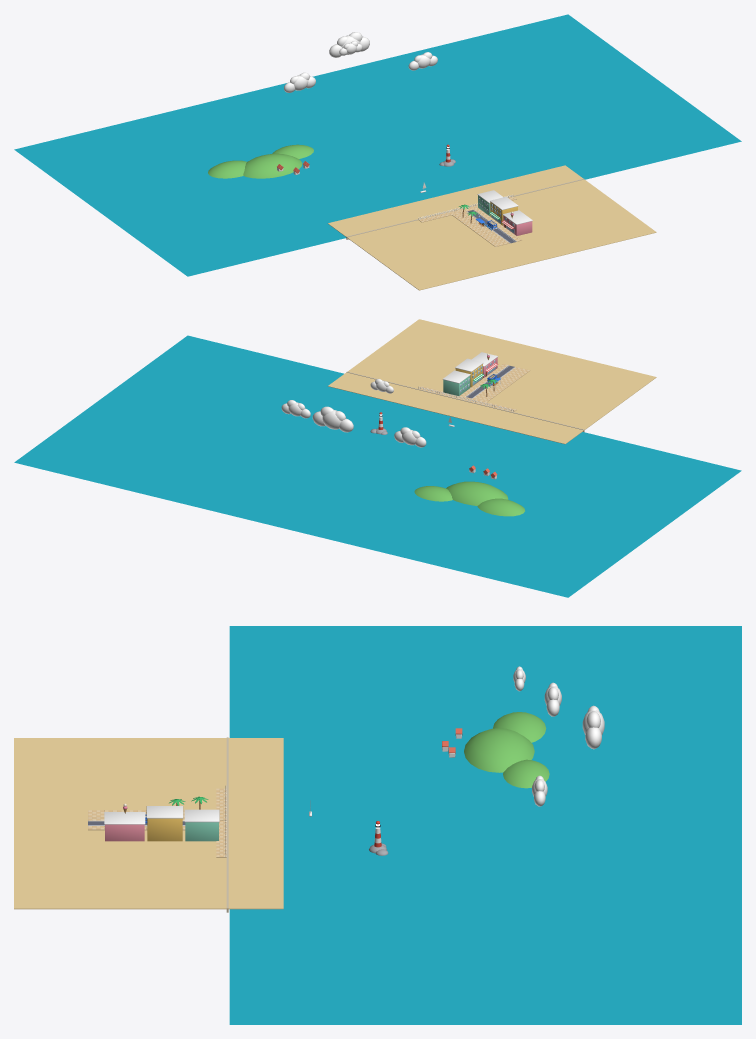
Rendered from HomeStage.fbx.
The picture shows the model from 3 angles, top to bottom: view 1: azimuth 30°, elevation 25°; view 2: azimuth 150°, elevation 25°; view 3: azimuth 270°, elevation 25°; orthographic projection. The views are drawn at different scales.
Parts seen in each view (by area): view 1: Sea, Scenery; view 2: Sea, Scenery; view 3: Sea, Scenery.
Part boxes in pixels (left/top/right/bottom): Sea: left=14, top=14, right=741, bottom=276; Scenery: left=208, top=32, right=656, bottom=290; Sea: left=14, top=335, right=741, bottom=597; Scenery: left=281, top=319, right=656, bottom=516; Sea: left=229, top=626, right=741, bottom=1024; Scenery: left=14, top=666, right=604, bottom=912.
Bounding box in the file's own units: 140 × 31.5 × 108.
